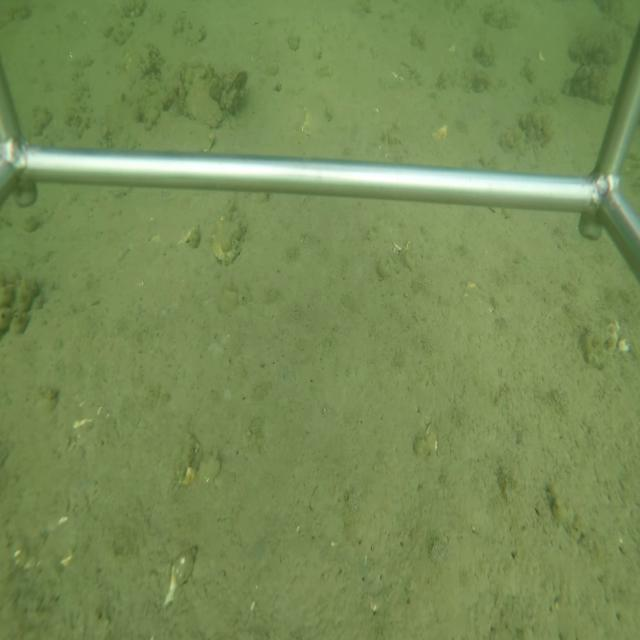Oyster-Closed: (181, 72, 227, 130), (209, 212, 249, 268)
